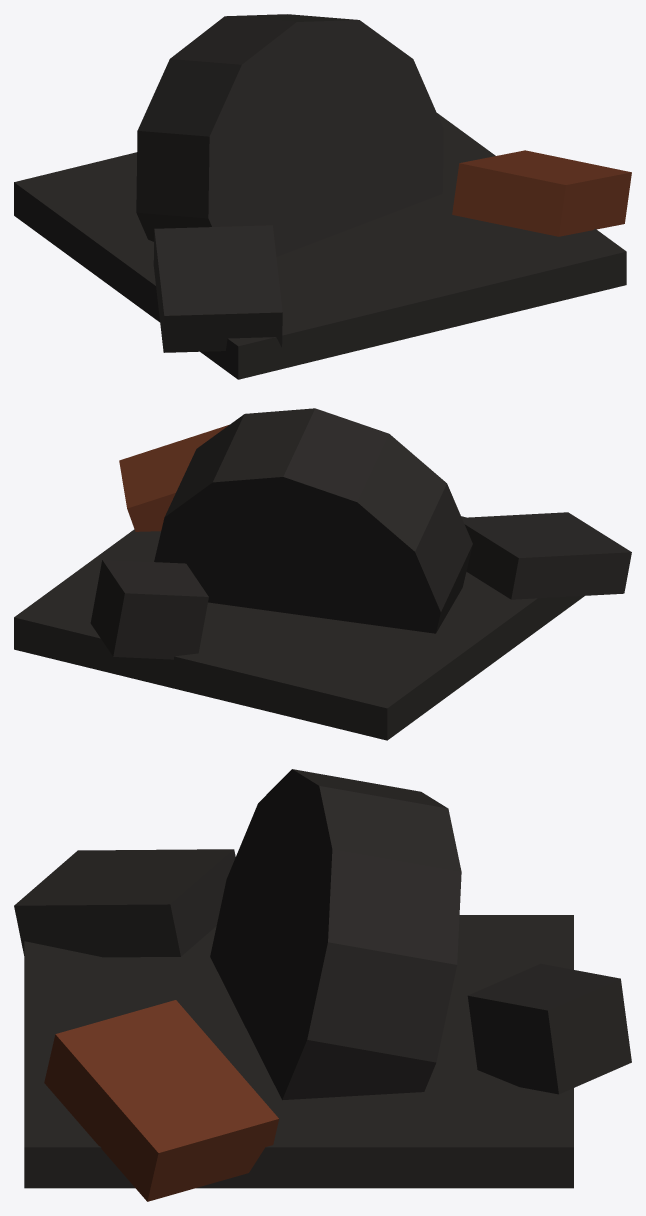
Rendered from RF_Structure_DepotFuel_Destroyed.glb.
3 renders of one model, top to bottom at view 1: azimuth 30°, elevation 25°; view 2: azimuth 150°, elevation 25°; view 3: azimuth 270°, elevation 25°, orthographic. The views are drawn at different scales.
Parts seen in each view (by area): view 1: RF_Structure_DepotFuel_Destroyed; view 2: RF_Structure_DepotFuel_Destroyed; view 3: RF_Structure_DepotFuel_Destroyed.
Part boxes in pixels (x1,y1,x2,y2): RF_Structure_DepotFuel_Destroyed: (14, 14, 631, 379); RF_Structure_DepotFuel_Destroyed: (14, 408, 631, 740); RF_Structure_DepotFuel_Destroyed: (14, 769, 631, 1201).
Bounding box in the file's own units: 4.38 × 2.54 × 3.82.
